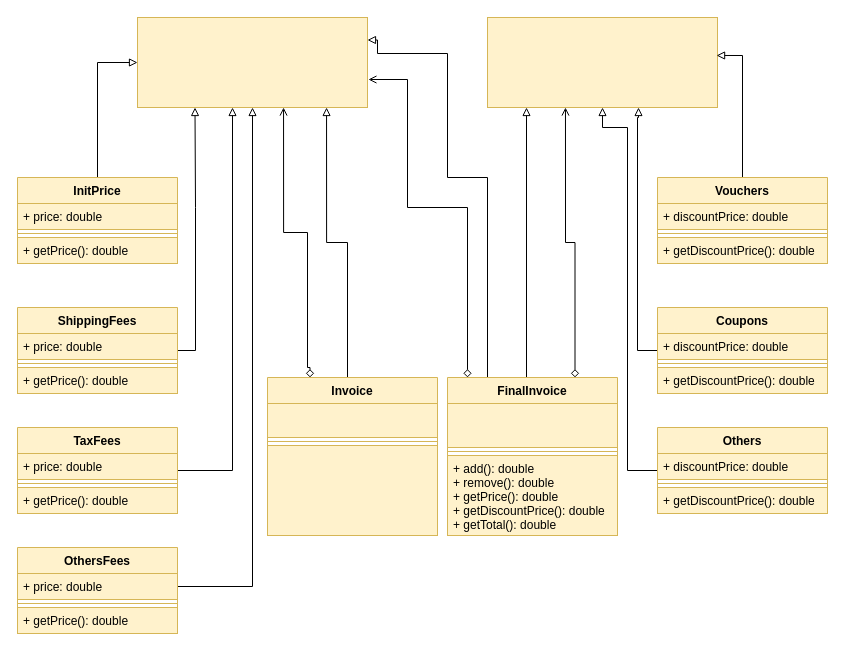
The diagram is 845 pixels wide and 654 high, and some of its shapes have lost their labels. The shapes that lost their labels are listed below. From the top down, each one's centre as x and y in pixels, then its label:
At pixel 252 62: "<<Interface>> OrderPrice + getPrice(): double".
At pixel 602 62: "<<Interface>> OrderDiscount + getDiscountPrice(): double".
At pixel 352 420: "+ invoice: Collection".
At pixel 532 425: "+ finalInvoice: Collection + discount: Collection".
At pixel 352 490: "+ add(): double + remove(): double + getPrice(): double".
